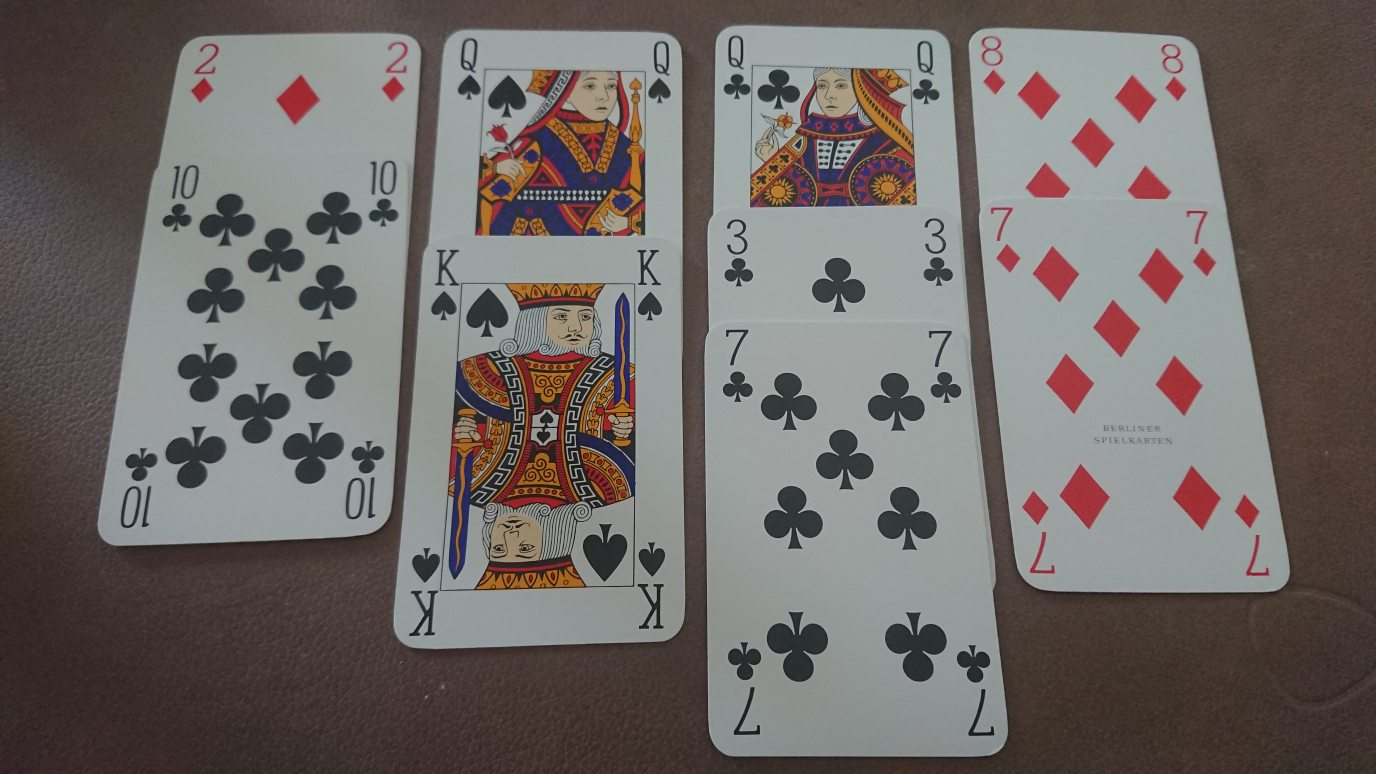10C: (158, 159, 206, 235), (365, 156, 404, 232)
2D: (188, 39, 224, 107), (380, 39, 412, 106)
3C: (919, 213, 957, 292), (720, 214, 757, 294)
7C: (925, 326, 965, 411), (721, 325, 758, 406)
7D: (1180, 206, 1223, 279), (985, 203, 1025, 276)
8D: (977, 32, 1012, 98), (1158, 38, 1192, 104)
KS: (631, 243, 669, 327), (429, 242, 466, 326)
QC: (909, 36, 945, 110), (721, 30, 755, 103)
QS: (454, 33, 486, 108), (645, 35, 677, 106)
